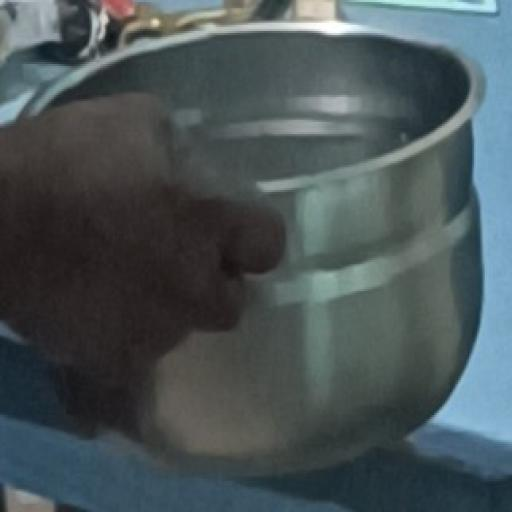vessel: (22, 23, 482, 475)
